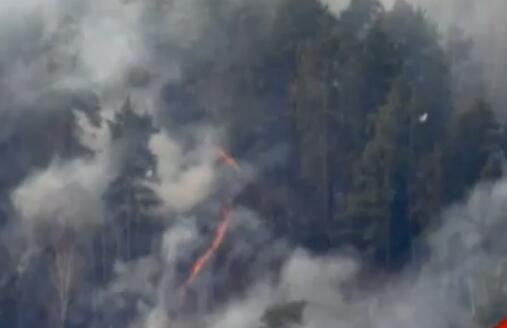yanwu: (2, 0, 504, 327)
